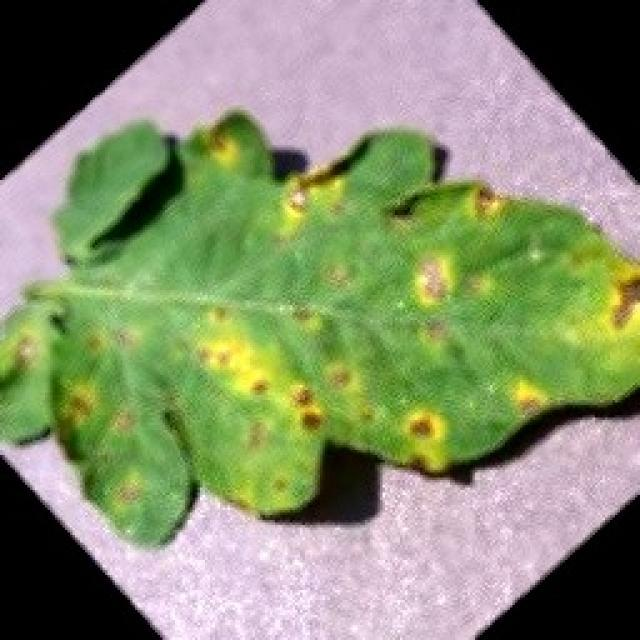leaves: (0, 59, 640, 569)
